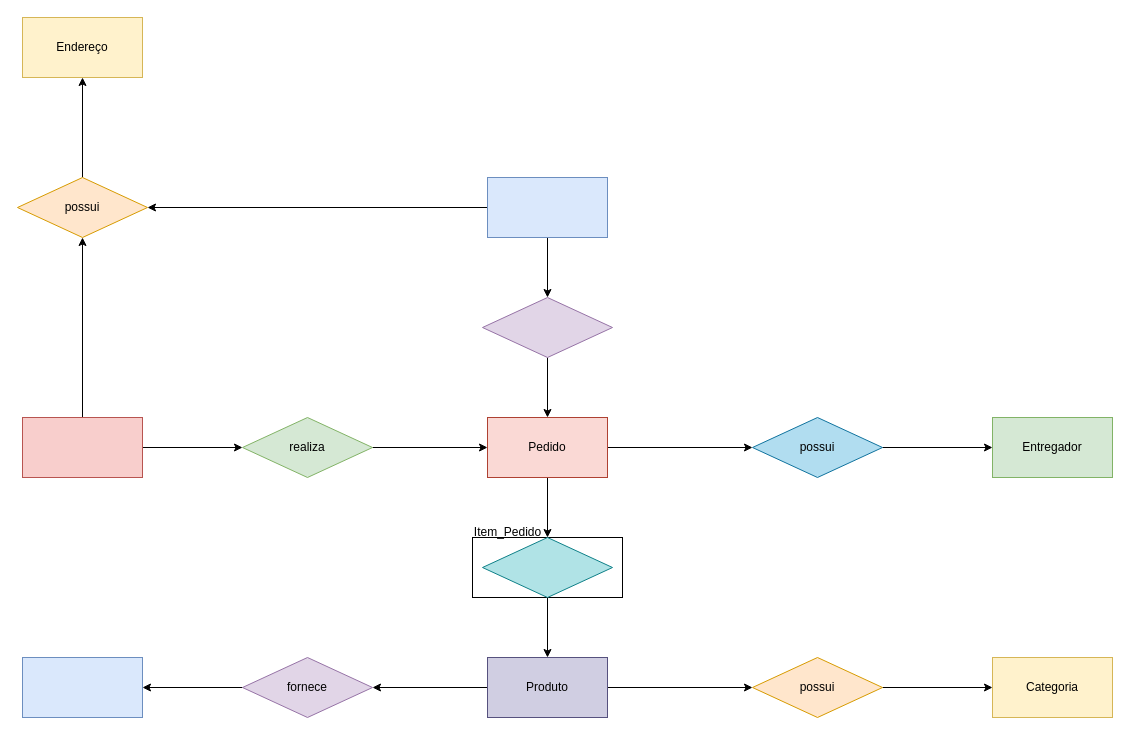
Some shapes in this 1130 by 735 pixel diagram are drawn without their labels. The shapes that lost their labels are listed below. From the top down, each one's box as (x1, y1, x2, y2) in pixels, then its label:
(486, 176, 608, 238): Funcionário
(482, 296, 612, 358): administra
(22, 416, 142, 478): Cliente
(482, 536, 612, 598): contém
(22, 656, 142, 718): Fornecedor
